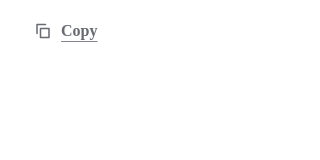
CopyButton › gives the copied label of a plain button the full text colour
This screenshot has width=320, height=160.
Step 1. Click the button "Copy" → (65, 31), box 8,8 -> 122,54
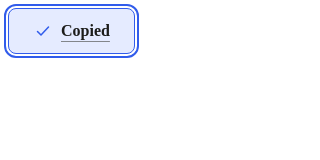
expect the button "Copied" is shown: met, box 8,8 -> 135,54
